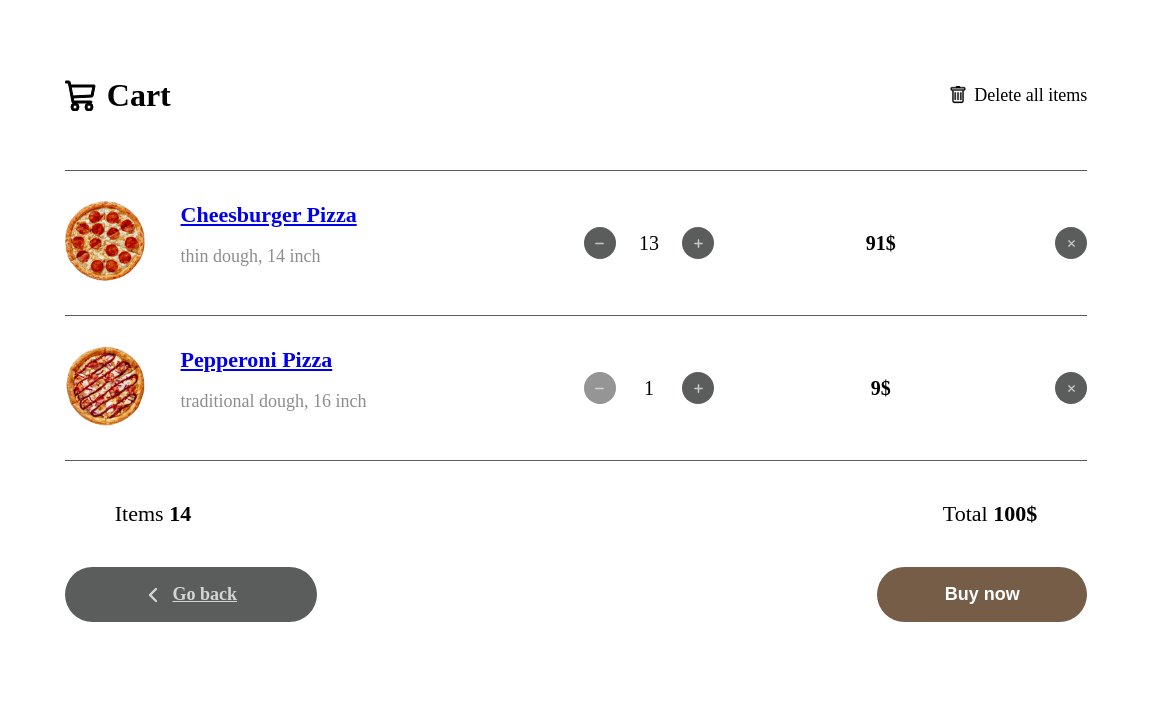
Test: CartItem tests › CartItem button tests › should add an item
Click the button named "plus" next to "13": (698, 243) [682,227,714,259]
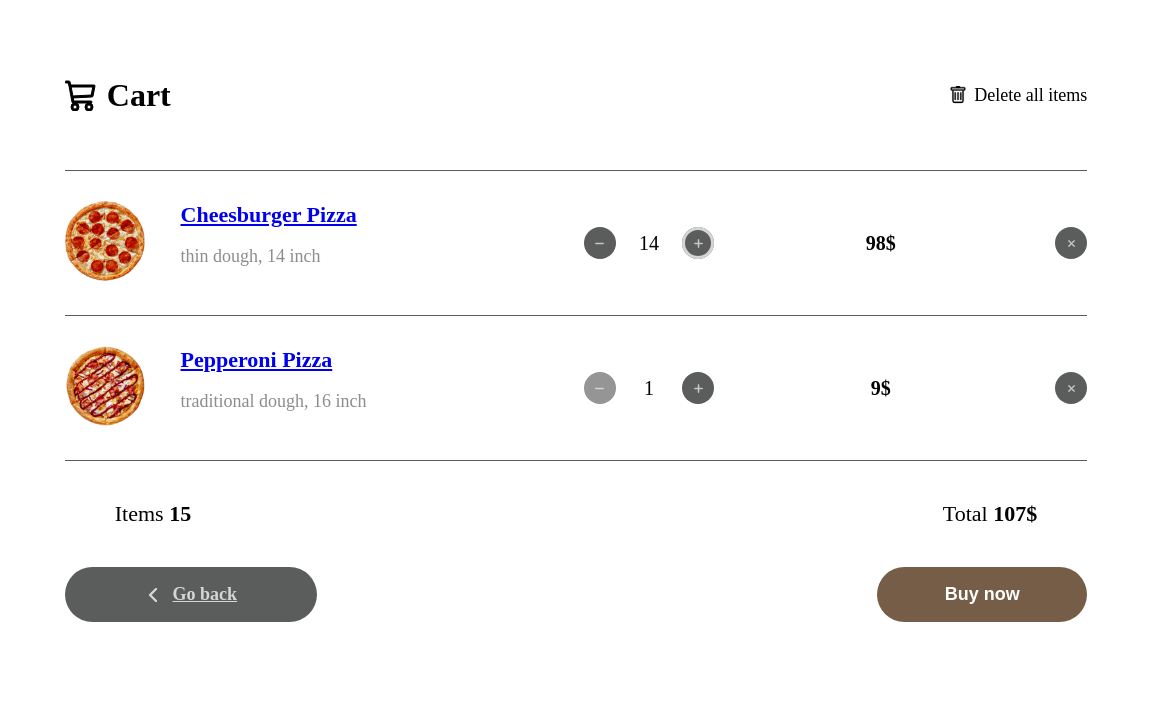
Click the button named "plus" next to "98": (698, 243) [682,227,714,259]
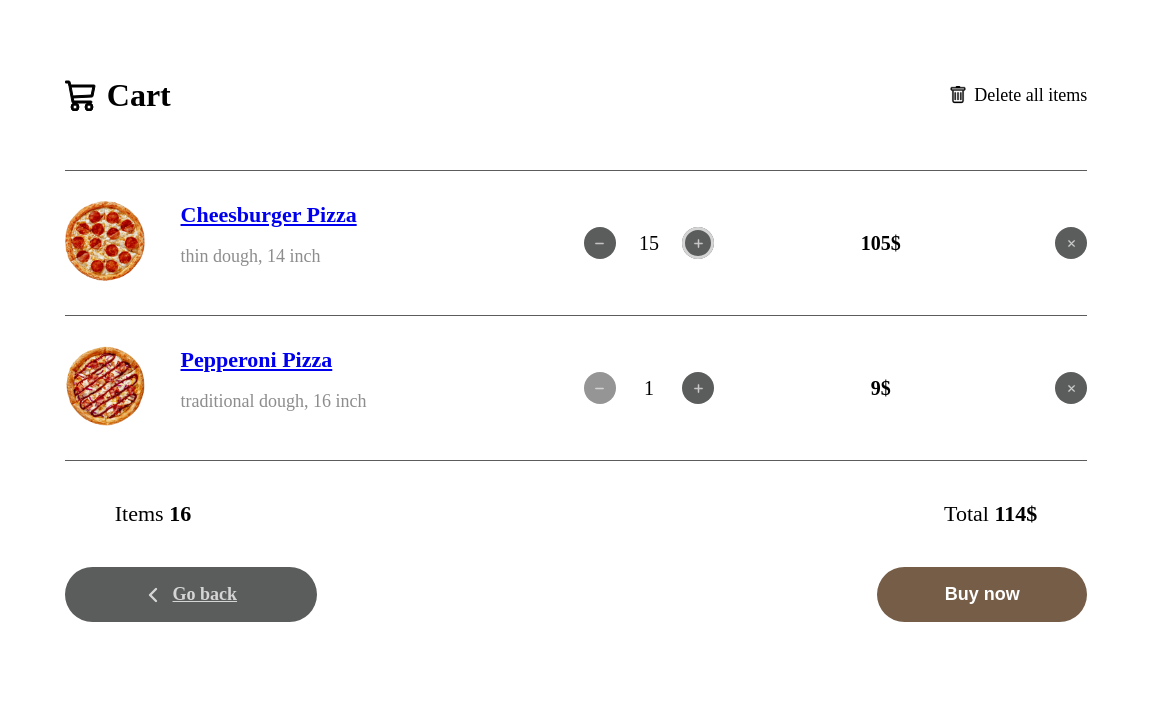
Now the text "13" reads "15", box [639,232,659,254]
Now the heading "91" shows "105", box [861,232,891,254]
